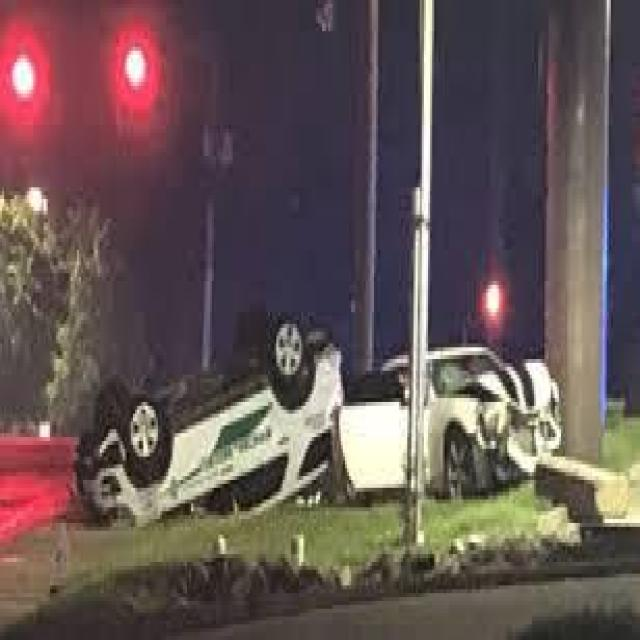severe: (70, 322, 346, 529)
